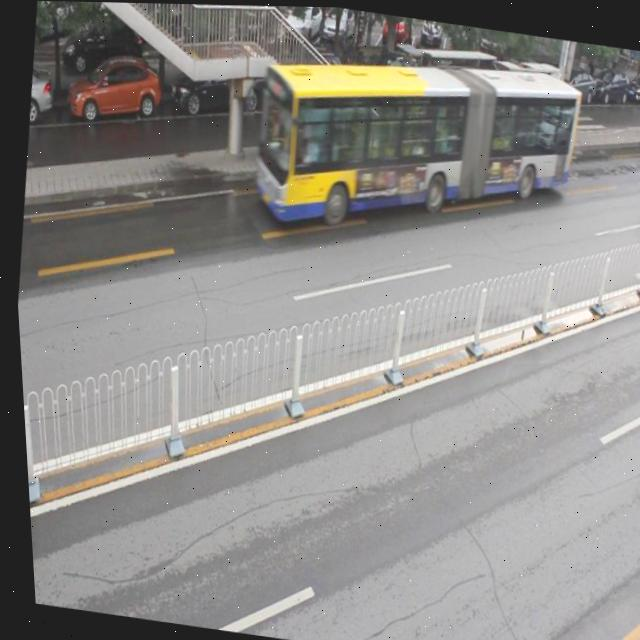car: (63, 52, 164, 135), (164, 52, 267, 132), (271, 46, 354, 122), (348, 50, 430, 126), (25, 68, 55, 129)
truck: (634, 147, 640, 232)
van: (226, 24, 590, 263)
